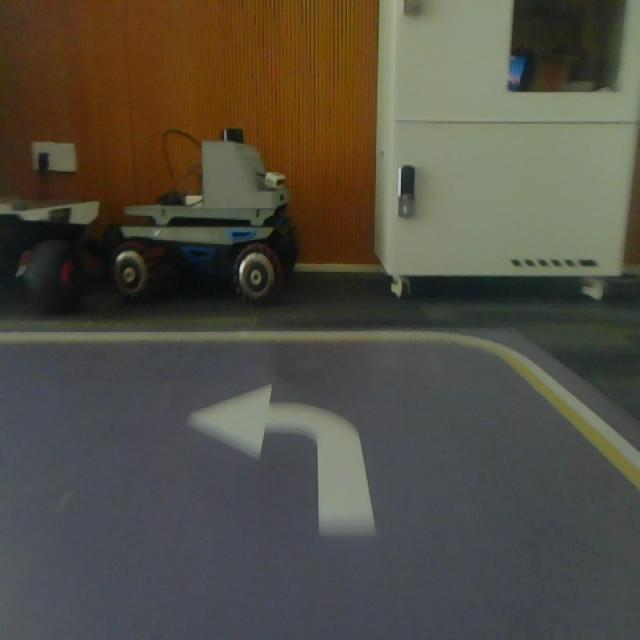right_lane: (493, 348, 640, 487)
